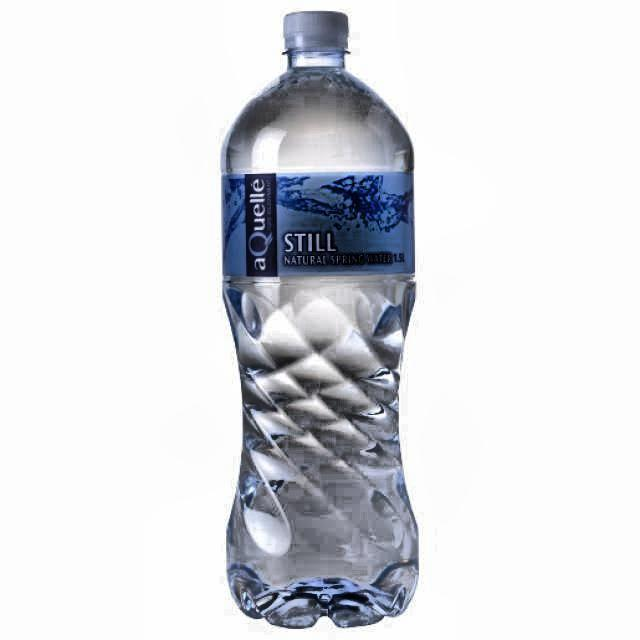plastic: (218, 11, 421, 634)
